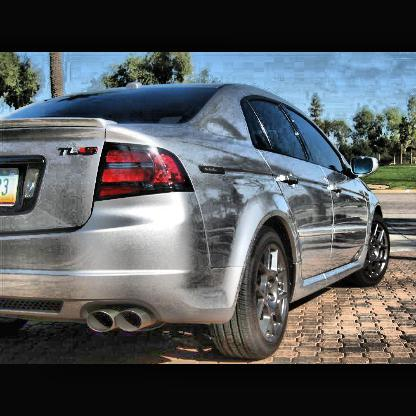Acura TL Type-S 2008: (2, 85, 392, 362)
